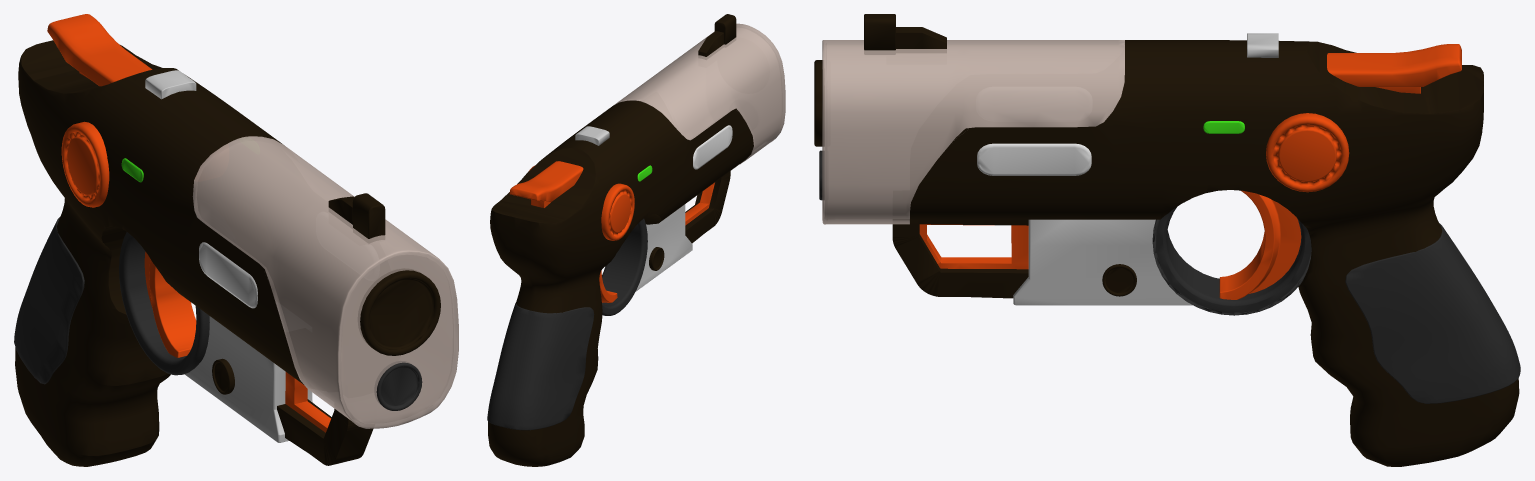
Rendered from spacegun.glb.
3 views of the same model, side by side, from view 1: azimuth 30°, elevation 25°; view 2: azimuth 150°, elevation 25°; view 3: azimuth 270°, elevation 25° (orthographic). The views are drawn at different scales.
Visible parts, largest first — view 1: Cube.012, Cube.004, Cube.009, Cube.001, Cylinder, Circle.002, Cube.010, Cube.003, Circle.004, Circle.003, Cube.008, Cylinder.001 (+5 smaller); view 2: Cube.012, Cube.004, Cube.009, Circle.002, Cube.001, Cube.010, Circle.004, Cube.003, Cube.008, Cube.005, Cube.006, Cube.007 (+1 smaller); view 3: Cube.012, Cube.004, Cube.009, Cube.001, Circle.004, Circle.002, Cube.003, Cube.010, Circle.003, Cube.008, Cube.002, Cube.005 (+4 smaller).
Boxes of the visible parts, x1=… form: Cube.012: x1=15, y1=40, x2=303, y2=466; Cube.004: x1=192, y1=136, x2=458, y2=428; Cube.009: x1=14, y1=217, x2=84, y2=384; Cube.001: x1=184, y1=316, x2=312, y2=442; Cylinder: x1=358, y1=269, x2=440, y2=355; Circle.002: x1=119, y1=213, x2=209, y2=375; Cube.010: x1=47, y1=14, x2=152, y2=86; Cube.003: x1=277, y1=399, x2=373, y2=465; Circle.004: x1=61, y1=121, x2=109, y2=207; Circle.003: x1=144, y1=251, x2=196, y2=357; Cube.008: x1=199, y1=242, x2=257, y2=308; Cylinder.001: x1=374, y1=361, x2=422, y2=410; Cube.012: x1=488, y1=100, x2=753, y2=466; Cube.004: x1=613, y1=23, x2=785, y2=164; Cube.009: x1=487, y1=303, x2=594, y2=430; Circle.002: x1=602, y1=218, x2=647, y2=315; Cube.001: x1=635, y1=204, x2=692, y2=291; Cube.010: x1=509, y1=161, x2=583, y2=207; Circle.004: x1=528, y1=165, x2=634, y2=240; Cube.003: x1=685, y1=171, x2=730, y2=243; Cube.008: x1=693, y1=125, x2=732, y2=169; Cube.005: x1=714, y1=14, x2=736, y2=47; Cube.006: x1=698, y1=31, x2=723, y2=59; Cube.007: x1=575, y1=126, x2=609, y2=145; Cube.012: x1=910, y1=40, x2=1519, y2=466; Cube.004: x1=822, y1=40, x2=1124, y2=224; Cube.009: x1=1345, y1=223, x2=1520, y2=403; Cube.001: x1=1013, y1=219, x2=1192, y2=305; Circle.004: x1=1266, y1=113, x2=1349, y2=192; Circle.002: x1=1152, y1=207, x2=1311, y2=315; Cube.003: x1=892, y1=219, x2=1028, y2=298; Cube.010: x1=1327, y1=44, x2=1461, y2=93; Circle.003: x1=1219, y1=190, x2=1301, y2=299; Cube.008: x1=977, y1=143, x2=1091, y2=175; Cube.002: x1=919, y1=224, x2=1028, y2=269; Cube.005: x1=864, y1=14, x2=895, y2=54.
Bounding box in the file's own units: 0.0606 × 0.1982 × 0.2902.
